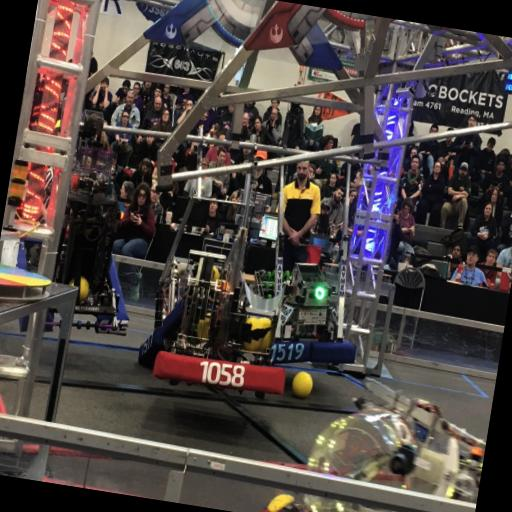robot: (148, 152, 318, 399), (137, 123, 287, 373), (244, 136, 394, 372)
